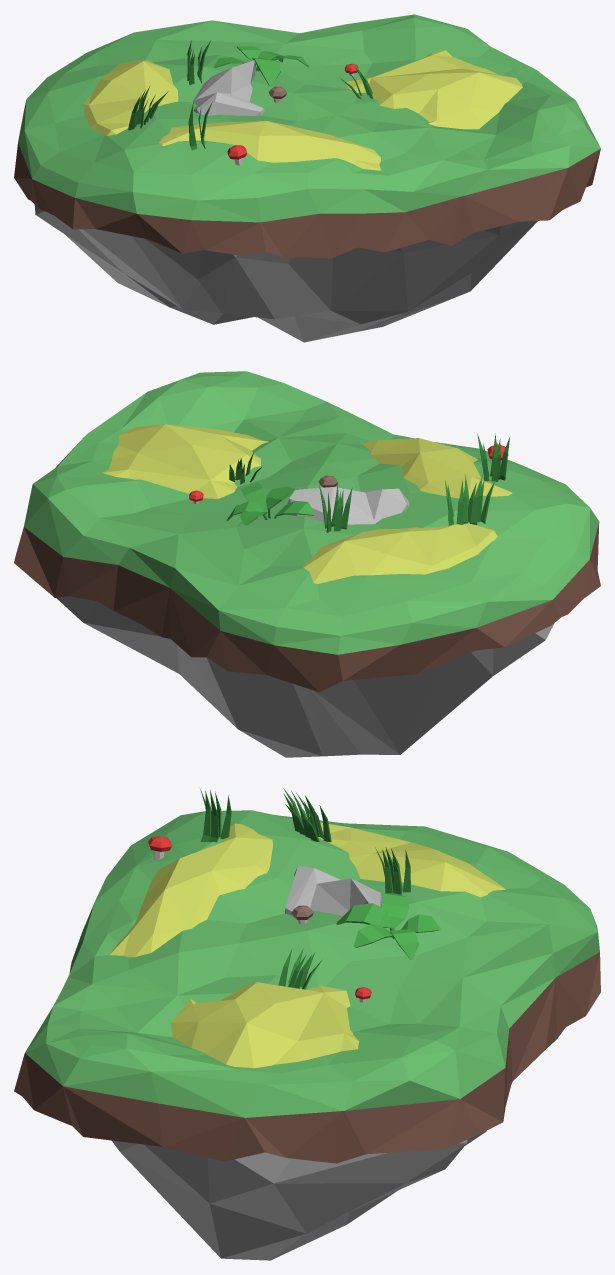
The model's file is land-26-5.fbx.
3 renders of one model, top to bottom at view 1: azimuth 30°, elevation 25°; view 2: azimuth 150°, elevation 25°; view 3: azimuth 270°, elevation 25°, orthographic. The views are drawn at different scales.
Visible parts, largest first — view 1: polySurface12468, polySurface12484, pCube3802, polySurface12485; view 2: polySurface12468, polySurface12484, pCube3802, polySurface12485, polySurface12481, polySurface12482, polySurface12483; view 3: polySurface12468, pCube3802, polySurface12484, polySurface12481, polySurface12485, polySurface12480, polySurface12483.
Boxes of the visible parts, <box> form: polySurface12468: <box>14,14,600,342</box>; polySurface12484: <box>193,60,264,115</box>; pCube3802: <box>213,46,309,85</box>; polySurface12485: <box>187,40,210,84</box>; polySurface12468: <box>14,371,600,757</box>; polySurface12484: <box>287,487,409,524</box>; pCube3802: <box>227,482,315,525</box>; polySurface12485: <box>319,484,352,532</box>; polySurface12481: <box>477,433,509,481</box>; polySurface12482: <box>463,474,495,524</box>; polySurface12483: <box>445,480,476,525</box>; polySurface12468: <box>14,810,600,1260</box>; pCube3802: <box>336,893,440,959</box>; polySurface12484: <box>285,865,382,915</box>; polySurface12481: <box>200,788,231,842</box>; polySurface12485: <box>375,847,410,894</box>; polySurface12480: <box>278,948,322,989</box>; polySurface12483: <box>294,798,331,842</box>.
Bounding box in the file's own units: 701 × 399 × 603.
1 material, 1 textured.
